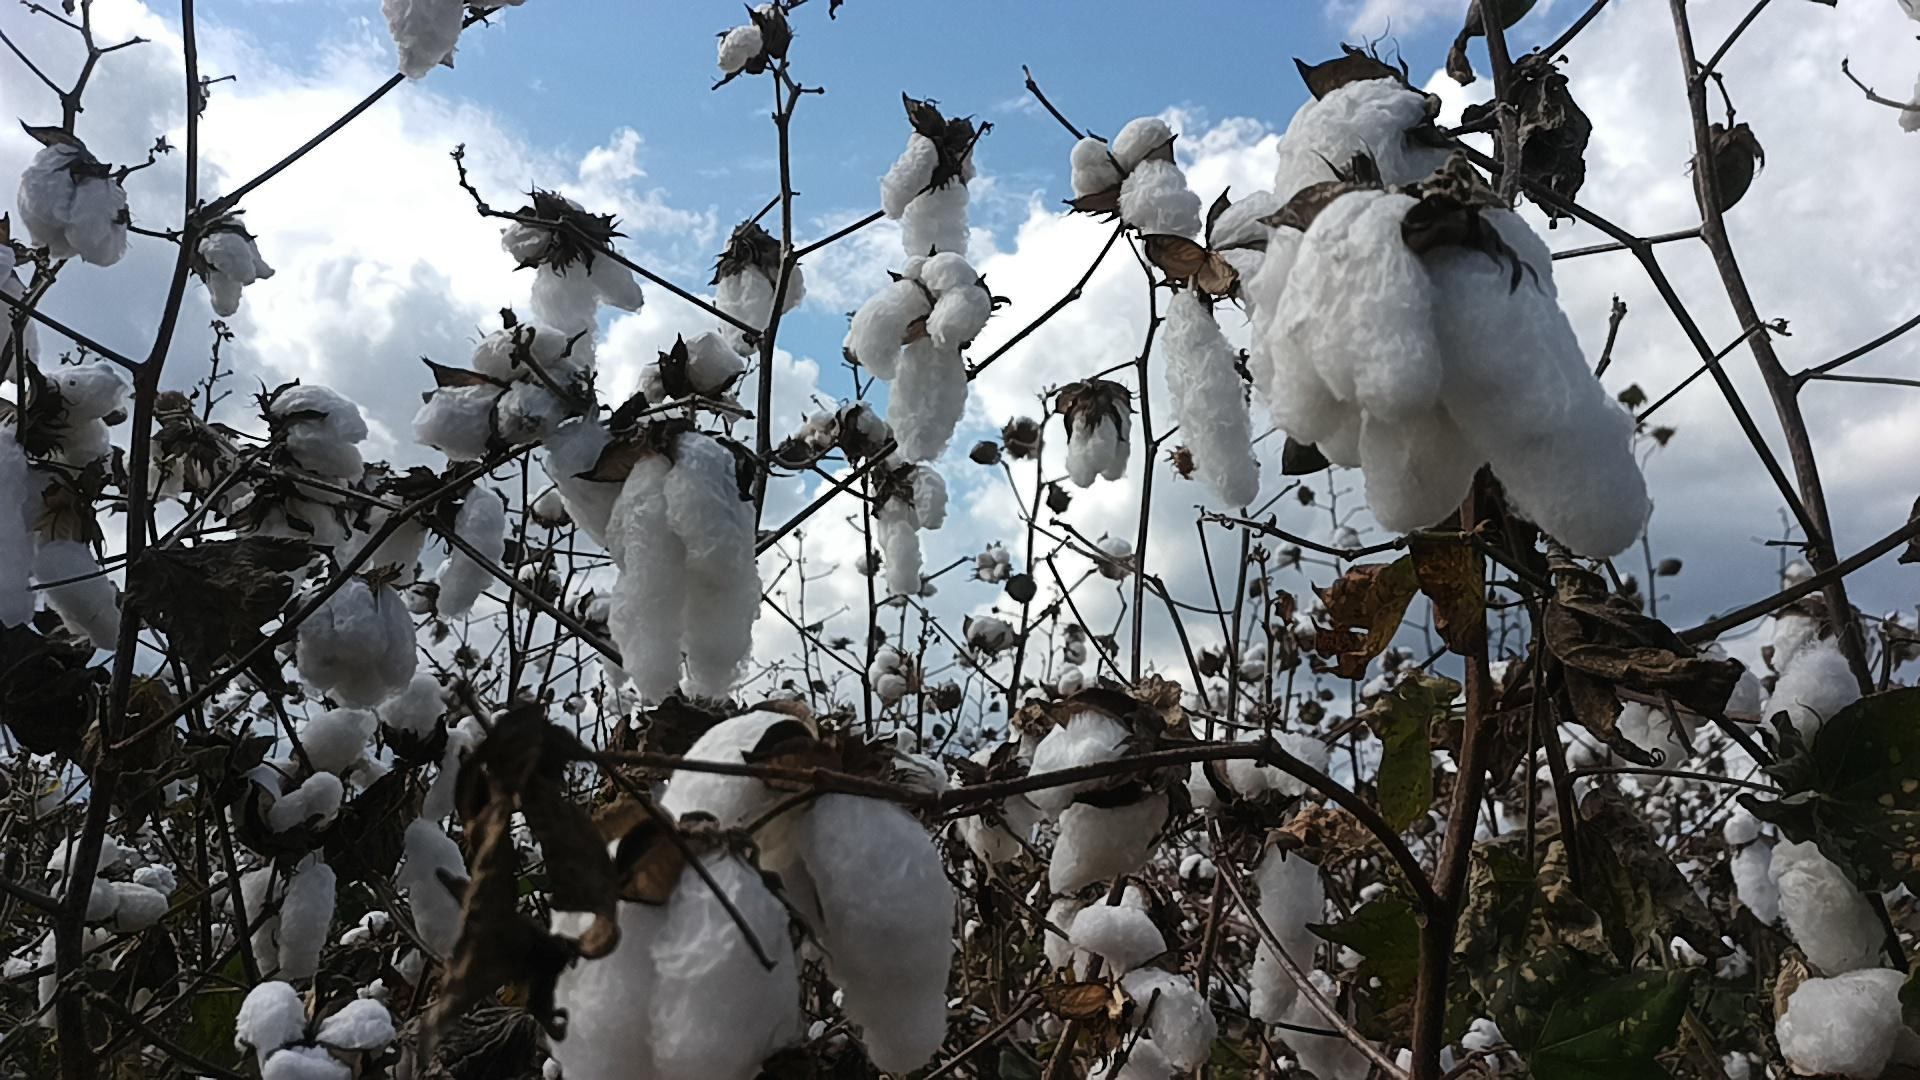cotton_ready: (1271, 195, 1658, 556), (662, 716, 960, 1076), (546, 845, 808, 1080), (418, 318, 615, 556), (605, 426, 766, 707), (1185, 725, 1333, 1023), (1160, 185, 1282, 508), (248, 708, 373, 993), (1771, 858, 1920, 1080), (1274, 70, 1468, 229), (1019, 702, 1174, 895), (844, 256, 988, 459), (36, 828, 170, 1039), (0, 443, 133, 647), (1073, 907, 1221, 1080), (1618, 634, 1767, 786), (498, 198, 647, 331), (380, 669, 510, 820), (1760, 646, 1905, 767), (295, 575, 421, 713), (236, 982, 396, 1080), (1071, 116, 1196, 233), (20, 140, 133, 265), (0, 365, 125, 477), (878, 131, 981, 261), (268, 381, 368, 501), (868, 463, 949, 599), (636, 323, 758, 413), (431, 483, 505, 618), (336, 476, 435, 574), (1040, 884, 1146, 975), (404, 815, 468, 963), (190, 214, 274, 319), (713, 245, 814, 334), (1762, 596, 1858, 671), (1064, 390, 1138, 487), (384, 0, 463, 83), (0, 243, 42, 384)
